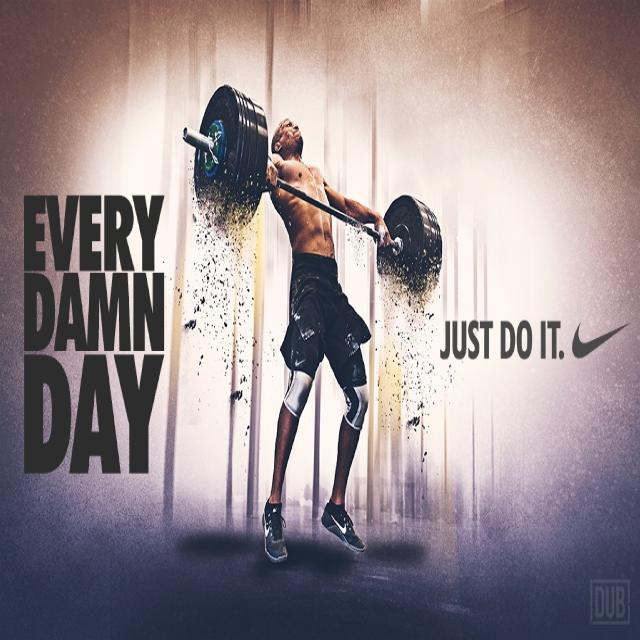nike: (566, 316, 628, 376)
